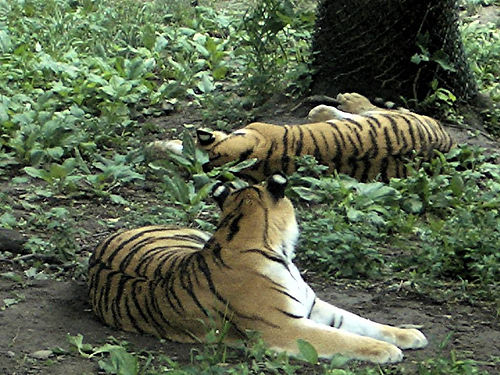Tigre: (46, 182, 421, 375), (188, 95, 456, 184)
